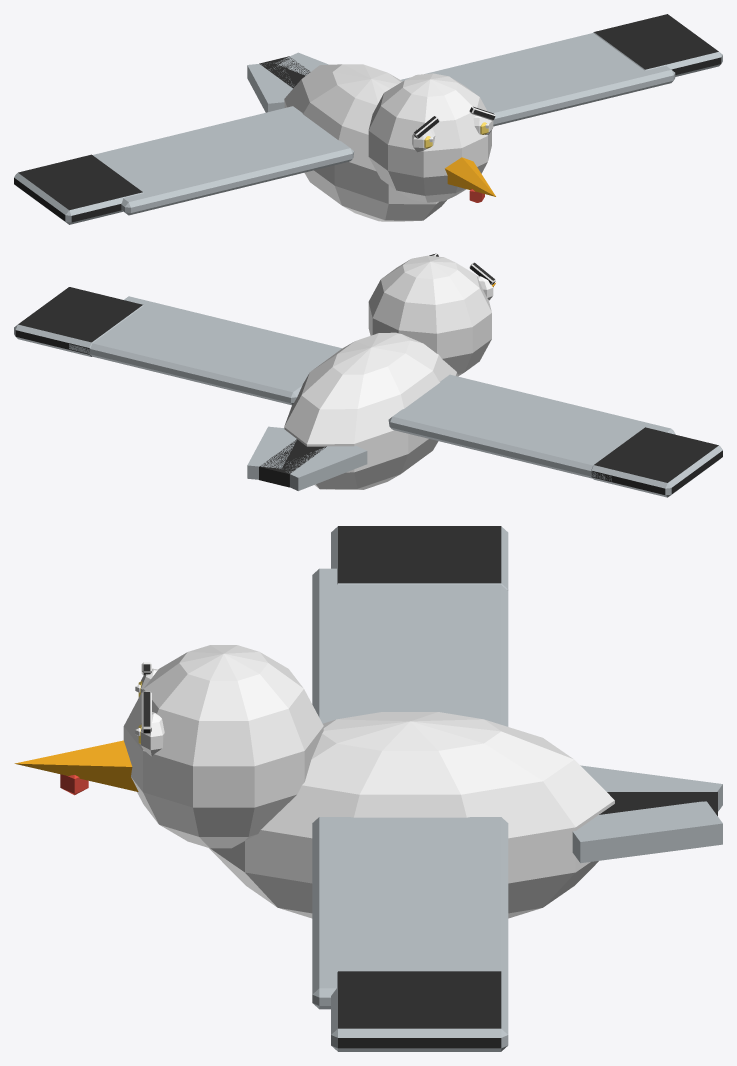
Rendered from minimoewe.glb.
The picture shows the model from 3 angles, top to bottom: view 1: azimuth 30°, elevation 25°; view 2: azimuth 150°, elevation 25°; view 3: azimuth 270°, elevation 25°; orthographic projection. The views are drawn at different scales.
Parts seen in each view (by area): view 1: body-m, wing-0-m, wing-1-m; view 2: body-m, wing-0-m, wing-1-m; view 3: body-m, wing-1-m, wing-0-m.
Boxes of the visible parts, box(x1,y1,x2,y2) form: body-m: box(247, 52, 495, 221); wing-0-m: box(14, 106, 354, 224); wing-1-m: box(401, 14, 722, 126); body-m: box(247, 253, 495, 490); wing-0-m: box(388, 374, 722, 497); wing-1-m: box(14, 287, 341, 405); body-m: box(14, 645, 722, 918); wing-1-m: box(312, 817, 508, 1051); wing-0-m: box(312, 526, 508, 726).
Bounding box in the file's own units: 2.58 × 0.64 × 1.52.
